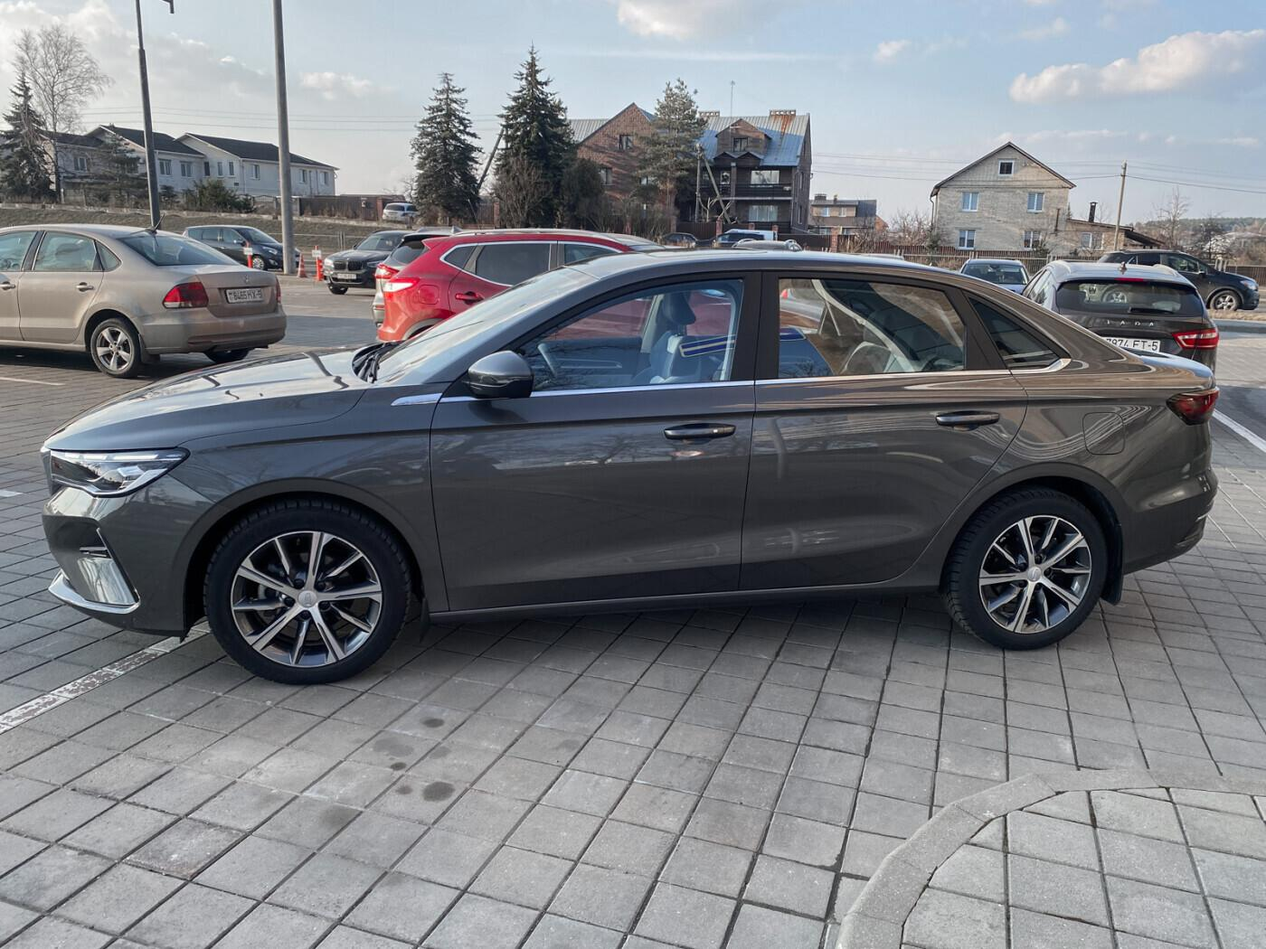Emgrand_2021: (32, 244, 1221, 682)
